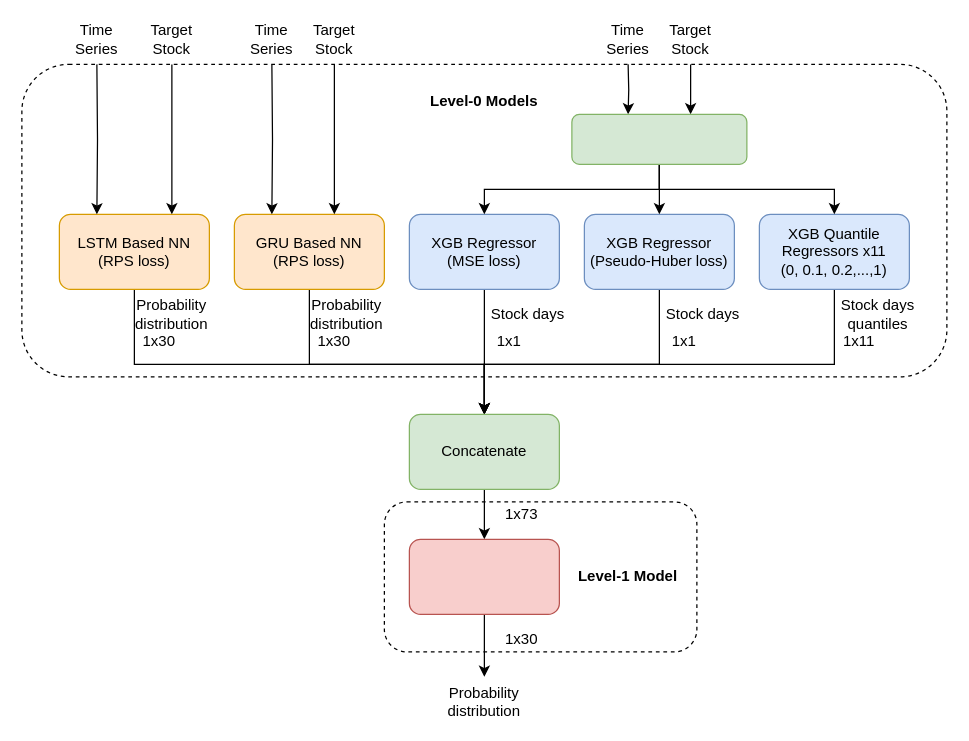
The diagram is 969 pixels wide and 741 high, and some of its shapes have lost their labels. The shapes that lost their labels are listed below. From the top down, each one's centre as x and y in pixels, then its label:
At (659,138): "Flatten and Concatenate".
At (483,576): "Ensemble NN".
